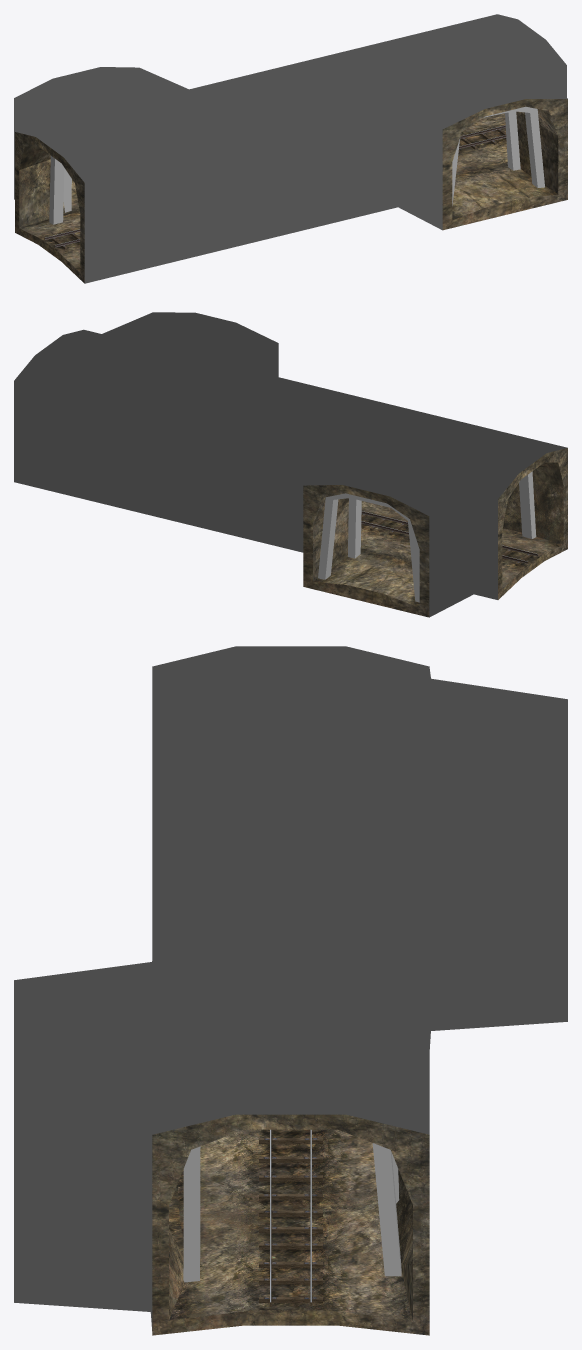
File: svgoldmine02.dae
3 views of the same model, one above another, from view 1: azimuth 30°, elevation 25°; view 2: azimuth 150°, elevation 25°; view 3: azimuth 270°, elevation 25° (orthographic). The views are drawn at different scales.
Parts seen in each view (by area): view 1: cube2265_copy34-0, cube2265_copy44-0, cube4535_copy4540-0; view 2: cube2265_copy34-0, cube2265_copy44-0, cube4535_copy4540-0; view 3: cube2265_copy34-0, cube4535_copy4540-0, cube2265_copy44-0.
Part boxes in pixels (x1,y1,x2,y2): cube2265_copy34-0: (14, 14, 567, 283); cube2265_copy44-0: (49, 106, 544, 224); cube4535_copy4540-0: (44, 125, 506, 249); cube2265_copy34-0: (14, 312, 567, 617); cube2265_copy44-0: (318, 471, 536, 602); cube4535_copy4540-0: (361, 511, 538, 565); cube2265_copy34-0: (14, 646, 567, 1335); cube4535_copy4540-0: (259, 1129, 322, 1306); cube2265_copy44-0: (183, 1143, 401, 1282).
Size of the model in its own units: 6000 by 1398 by 3000.
